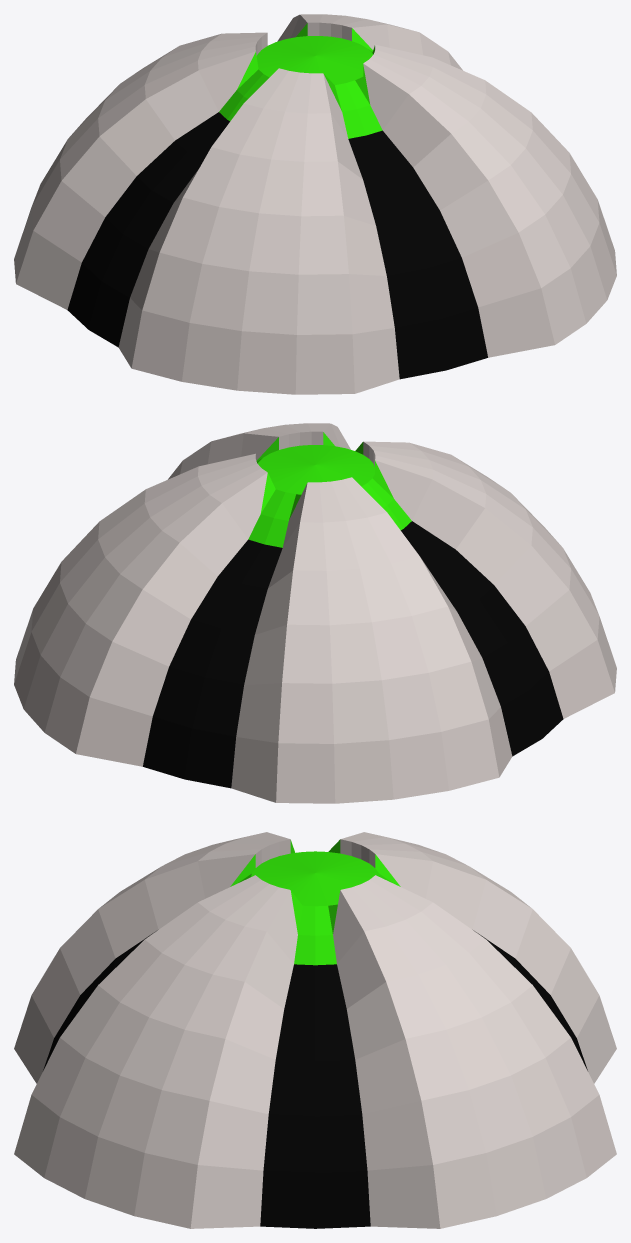
The model's file is Type3.fbx.
3 views of the same model, one above another, from view 1: azimuth 30°, elevation 25°; view 2: azimuth 150°, elevation 25°; view 3: azimuth 270°, elevation 25° (orthographic). The views are drawn at different scales.
Parts seen in each view (by area): view 1: 球; view 2: 球; view 3: 球.
Boxes of the visible parts, box(x1,y1,x2,y2) form: 球: box(14, 14, 616, 394); 球: box(14, 423, 616, 803); 球: box(14, 832, 616, 1228).
Size of the model in its own units: 181 by 81.15 by 181.
